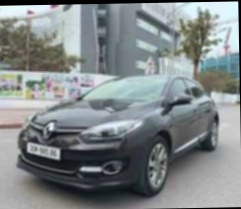Bien-so: (27, 142, 60, 160)
